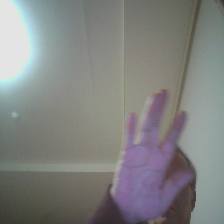hand: (102, 82, 193, 220)
